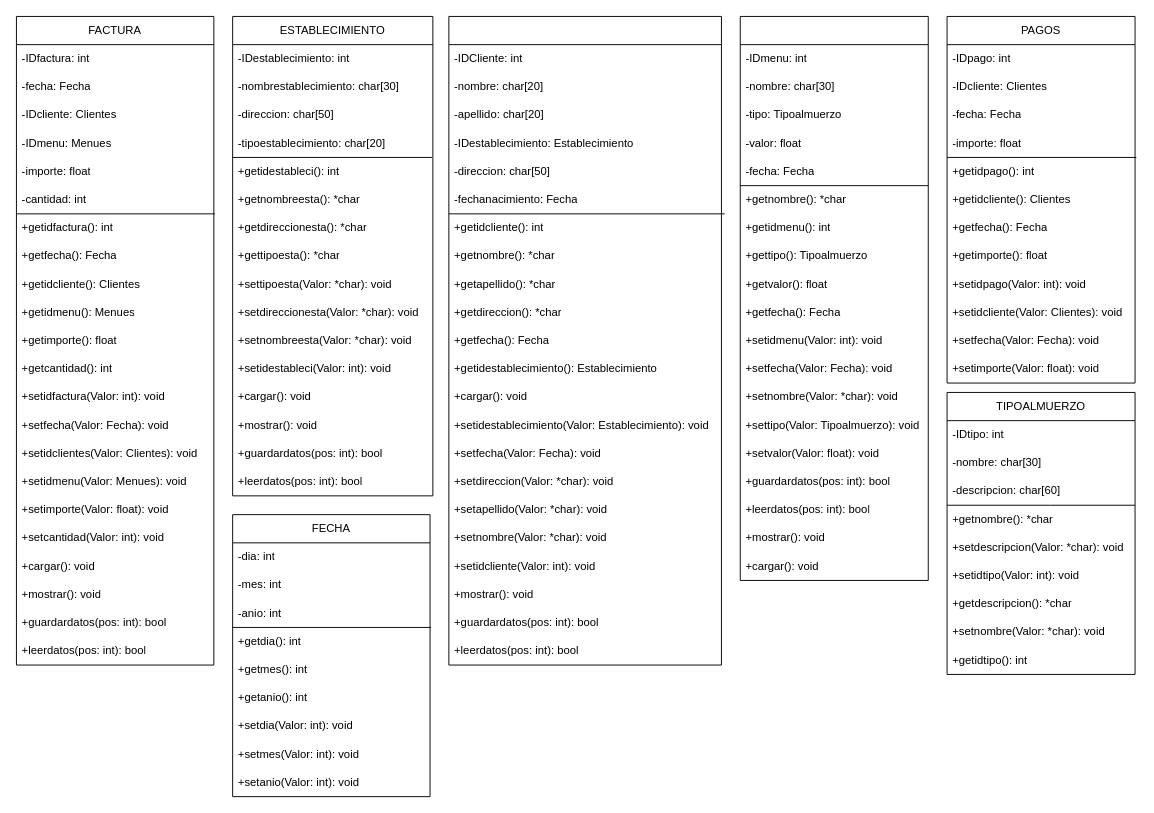
Image size: 1154x813. Some labels were removed from this diagram. Each missing label, with the box of its shape:
CLIENTES: (448, 16, 721, 665)
MENUES: (739, 16, 928, 580)
